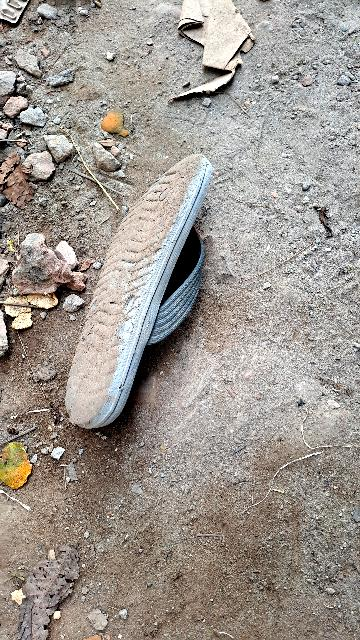sandal: (36, 124, 253, 445)
